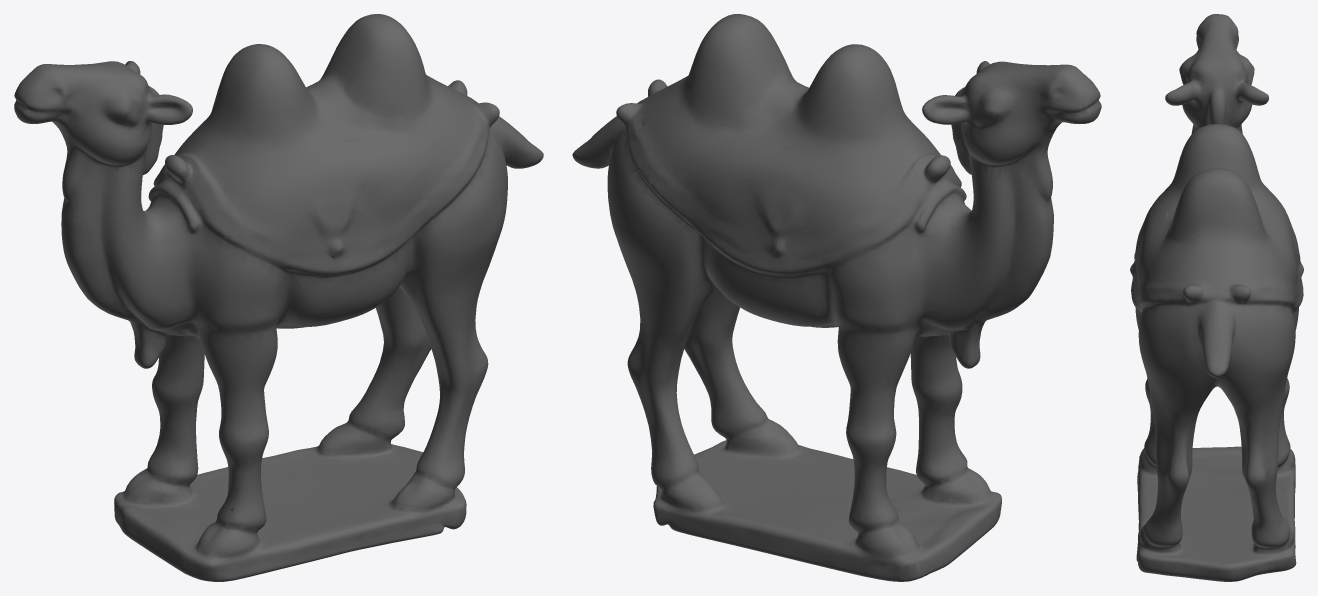
3 renders of one model, left to right at view 1: azimuth 30°, elevation 25°; view 2: azimuth 150°, elevation 25°; view 3: azimuth 270°, elevation 25°, orthographic. The views are drawn at different scales.
Parts seen in each view (by area): view 1: mesh_uvwarp; view 2: mesh_uvwarp; view 3: mesh_uvwarp.
Boxes of the visible parts, x1=… form: mesh_uvwarp: x1=14, y1=14, x2=543, y2=581; mesh_uvwarp: x1=572, y1=14, x2=1101, y2=581; mesh_uvwarp: x1=1130, y1=14, x2=1303, y2=581.
Size of the model in its own units: 2 by 1.89 by 0.7158.
Materials: 1 (1 with a texture image).
